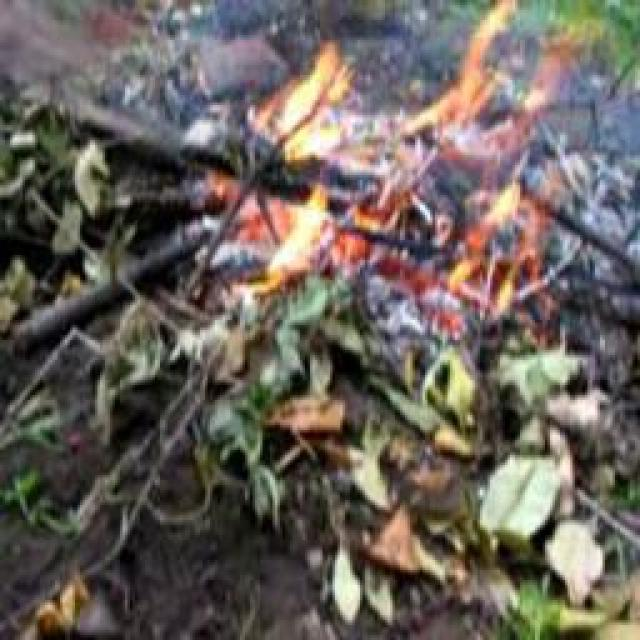Fire: (226, 36, 574, 295)
